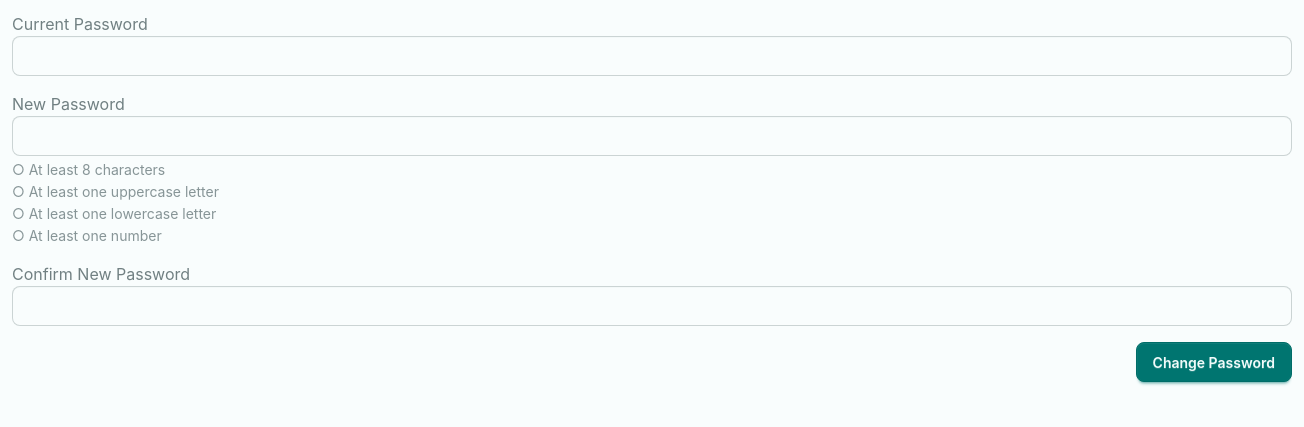
it: ChangePasswordForm › blocks submission and shows an inline error when new password and confirmation do not match
The image size is (1304, 427).
In the password field with test id "current-password": (652, 56) [12,36,1292,76], type "OldPassword1"
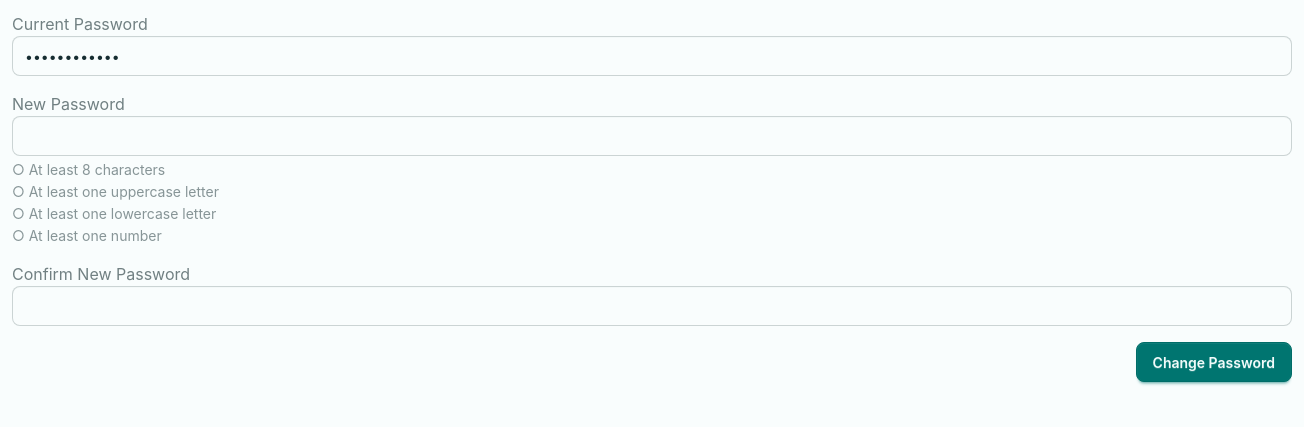
In the password field with test id "new-password": (652, 136) [12,116,1292,156], type "NewPassword2"
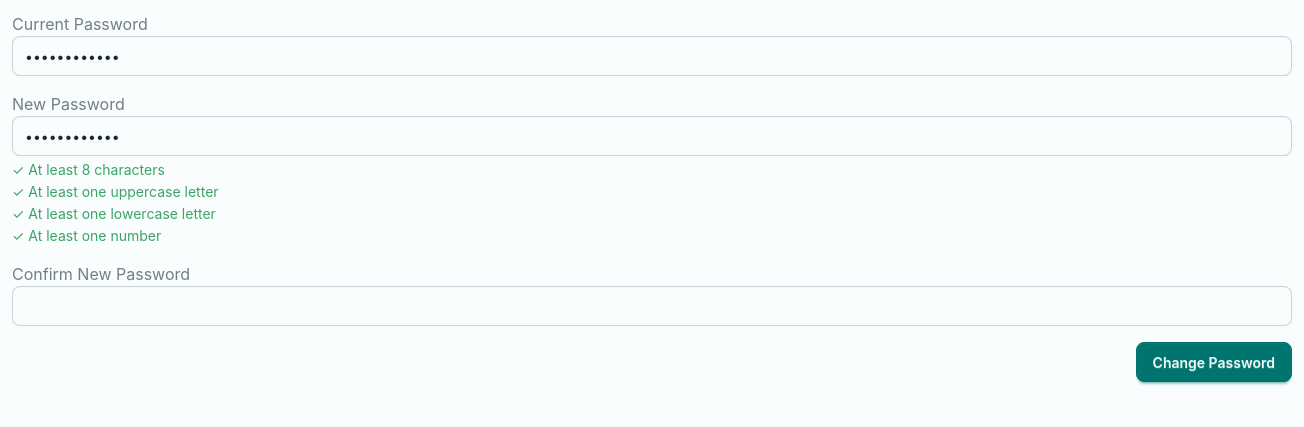
In the password field with test id "confirm-password": (652, 306) [12,286,1292,326], type "NewPasswordDifferent3"
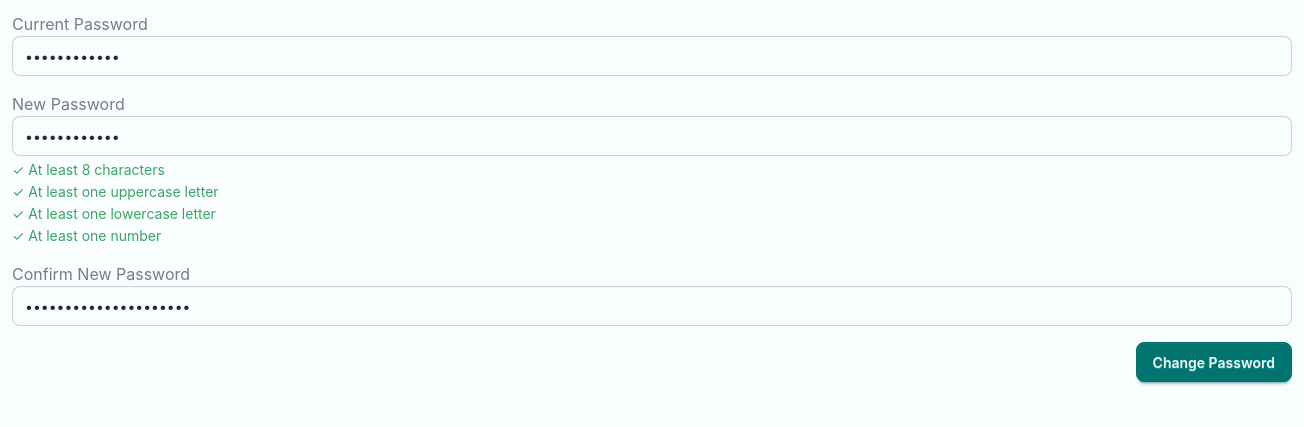
Submit the form
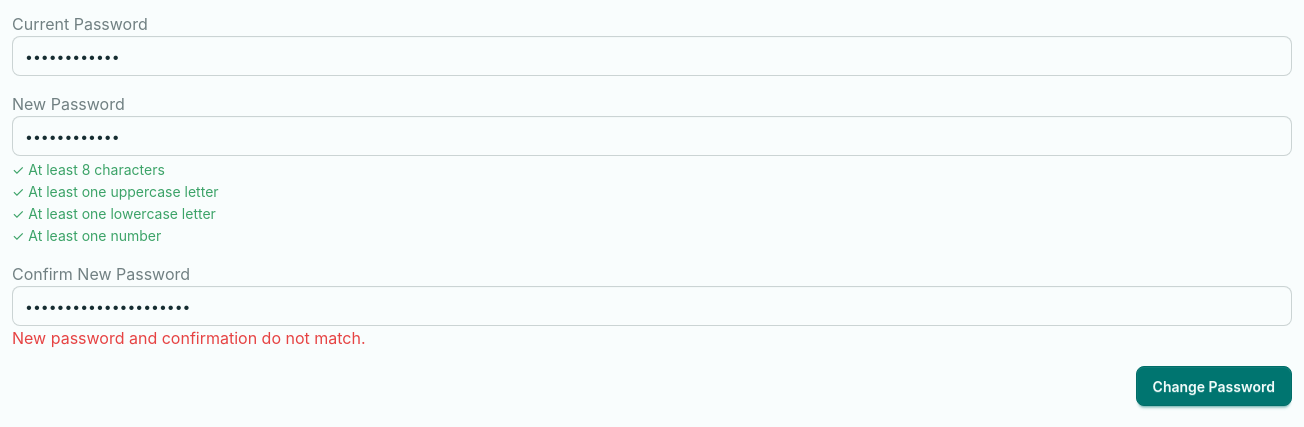
Now the text "New password and confirmation do not match." is shown, box [12,326,366,350]
